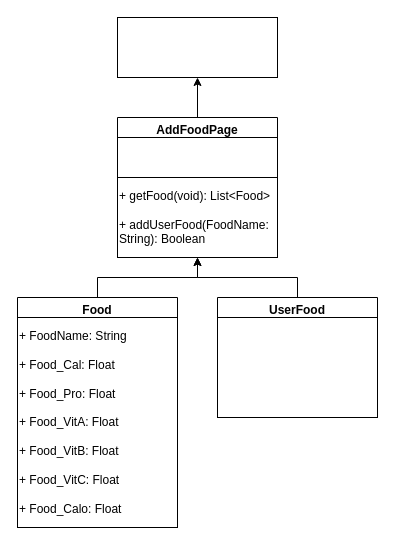
Image size: 395x545. Some labels were removed from this diagram. Each missing label, with the centre of its shape:
"+ FoodName: String" goes at point (197, 157).
"+ User_id: String + Date: Date + FoodName: String" goes at point (297, 367).
"<<System>> Backend" goes at point (197, 47).
